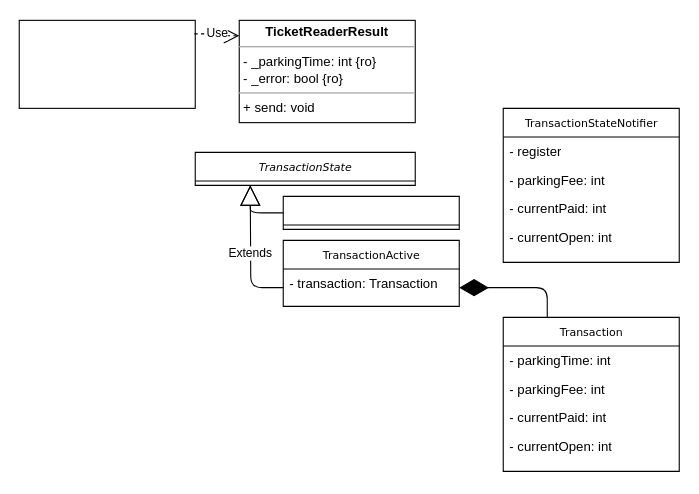
This 699x494 diagram has some shape labels left out. The shapes that lost their labels are listed below. From the top down, each one's centre as x and y in pixels, then its label:
At point (106, 63): "FakeTicketReader + readTicket: void".
At point (370, 212): "TransactionNone".
